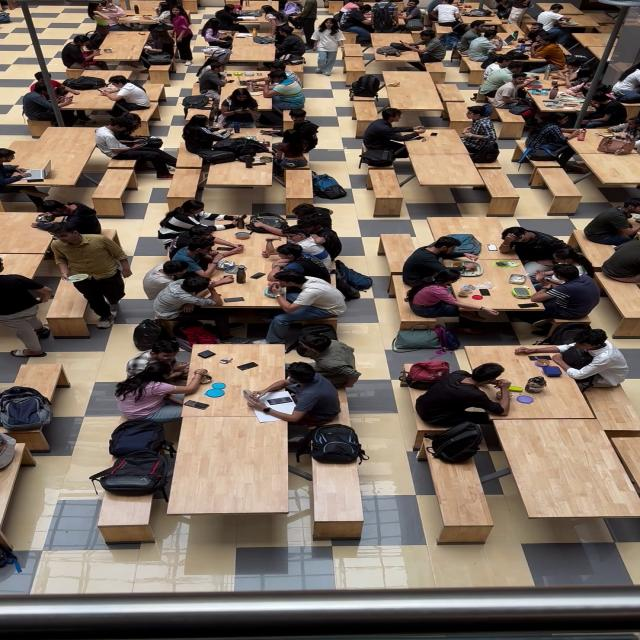Occupied: (458, 348, 603, 421), (177, 348, 288, 420), (172, 248, 298, 309), (242, 360, 342, 431), (518, 334, 631, 391), (393, 279, 536, 324), (1, 127, 106, 187), (413, 363, 512, 426), (112, 358, 206, 424), (92, 118, 178, 180), (493, 81, 583, 139), (270, 334, 362, 390), (0, 212, 53, 306), (527, 262, 603, 320), (256, 215, 342, 265), (265, 272, 349, 323), (499, 228, 579, 280), (156, 199, 243, 245), (400, 235, 476, 287), (150, 272, 232, 318), (521, 113, 588, 169), (163, 235, 245, 280), (179, 114, 248, 167), (360, 107, 428, 159), (246, 68, 306, 124), (124, 344, 203, 386), (26, 77, 89, 126), (382, 76, 447, 122), (264, 242, 331, 286), (90, 30, 151, 74), (581, 201, 639, 247), (36, 200, 104, 238), (0, 214, 58, 258), (0, 150, 46, 205), (398, 125, 477, 157), (59, 88, 121, 126), (97, 75, 151, 118), (476, 60, 532, 100), (458, 105, 500, 158), (391, 28, 448, 66), (509, 17, 558, 61), (270, 108, 320, 151), (576, 92, 630, 130), (216, 88, 262, 130), (136, 24, 176, 72), (59, 34, 108, 72), (596, 116, 640, 158), (462, 26, 509, 63), (360, 46, 422, 74), (336, 2, 377, 44), (226, 38, 278, 71), (194, 60, 233, 102), (268, 136, 312, 173), (527, 37, 571, 73), (198, 16, 240, 52), (257, 3, 296, 40), (167, 5, 194, 58), (271, 30, 308, 66), (556, 72, 600, 102), (609, 64, 640, 104), (87, 0, 127, 30), (387, 0, 423, 32), (232, 12, 278, 37), (289, 0, 319, 34), (429, 0, 464, 28), (141, 0, 175, 28), (114, 14, 164, 31), (503, 0, 535, 26), (490, 0, 516, 22), (226, 2, 255, 21), (82, 29, 106, 50)
Unoccupied: (80, 417, 356, 545), (495, 417, 640, 521), (164, 414, 290, 517), (306, 386, 366, 541), (420, 435, 498, 545), (399, 128, 492, 210), (565, 145, 640, 203), (94, 484, 159, 545), (202, 154, 277, 203), (379, 1, 451, 51), (584, 378, 640, 435), (532, 164, 586, 214), (468, 50, 557, 80), (473, 165, 524, 215), (420, 214, 505, 244), (567, 222, 621, 269), (11, 362, 69, 401), (90, 167, 139, 213), (606, 433, 640, 498), (518, 13, 594, 42), (44, 273, 94, 317), (0, 472, 22, 562), (366, 168, 406, 215), (165, 164, 206, 203), (282, 168, 314, 211), (0, 252, 49, 280), (290, 314, 340, 341), (378, 233, 417, 264), (351, 99, 383, 136), (171, 141, 205, 172), (434, 83, 468, 113), (367, 32, 417, 52), (342, 56, 366, 85), (145, 63, 173, 85), (548, 3, 586, 16), (143, 83, 167, 103)
